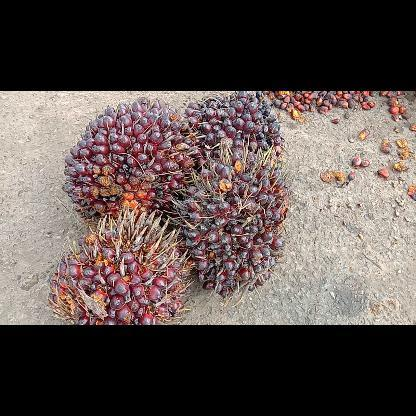Kurang masak: (165, 147, 293, 299), (46, 202, 196, 324), (177, 92, 289, 172)
TBS masak: (59, 96, 203, 234)
